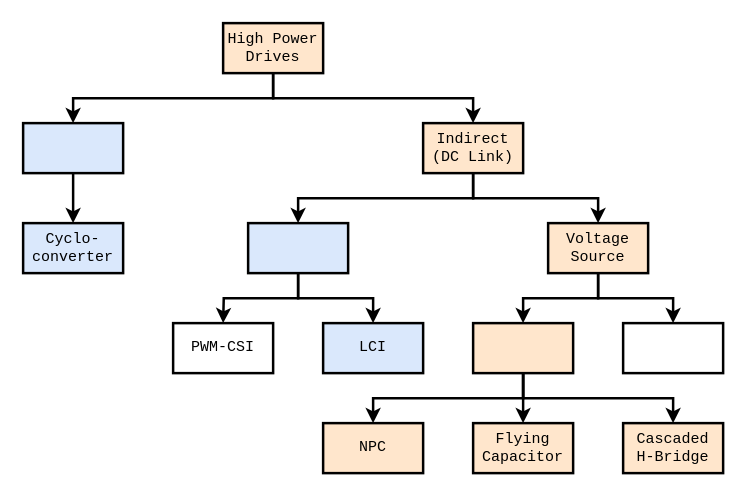
This 745x495 diagram has some shape labels left out. Each missing label, with the centre of its shape:
"Current Source" belongs at pixel 297 247.
"Direct" belongs at pixel 72 147.
"High Power 2-LVL VSI" belongs at pixel 672 347.
"Multilevel Inverters" belongs at pixel 522 347.
